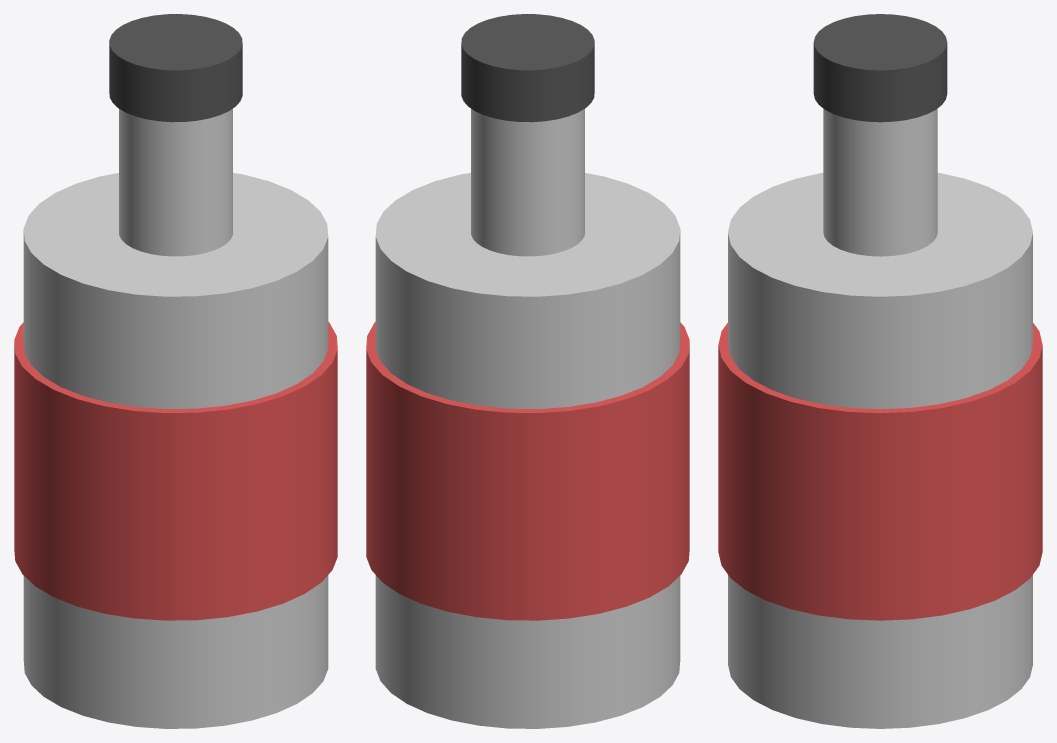
Rendered from Paint.fbx.
The picture shows the model from 3 angles, left to right: view 1: azimuth 30°, elevation 25°; view 2: azimuth 150°, elevation 25°; view 3: azimuth 270°, elevation 25°; orthographic projection.
Visible parts, largest first — view 1: Bottle_Body, Paint_Label, Bottle_Neck, Bottle_Cap; view 2: Bottle_Body, Paint_Label, Bottle_Neck, Bottle_Cap; view 3: Bottle_Body, Paint_Label, Bottle_Neck, Bottle_Cap.
Part boxes in pixels (x1=…): Bottle_Body: x1=23, y1=173, x2=328, y2=728; Paint_Label: x1=14, y1=322, x2=337, y2=620; Bottle_Neck: x1=119, y1=108, x2=232, y2=256; Bottle_Cap: x1=109, y1=14, x2=242, y2=122; Bottle_Body: x1=375, y1=173, x2=680, y2=728; Paint_Label: x1=366, y1=322, x2=689, y2=620; Bottle_Neck: x1=471, y1=108, x2=584, y2=256; Bottle_Cap: x1=461, y1=14, x2=594, y2=122; Bottle_Body: x1=728, y1=172, x2=1032, y2=728; Paint_Label: x1=718, y1=323, x2=1042, y2=620; Bottle_Neck: x1=823, y1=108, x2=937, y2=256; Bottle_Cap: x1=813, y1=14, x2=947, y2=122.
Bounding box in the file's own units: 170 × 360 × 170.
